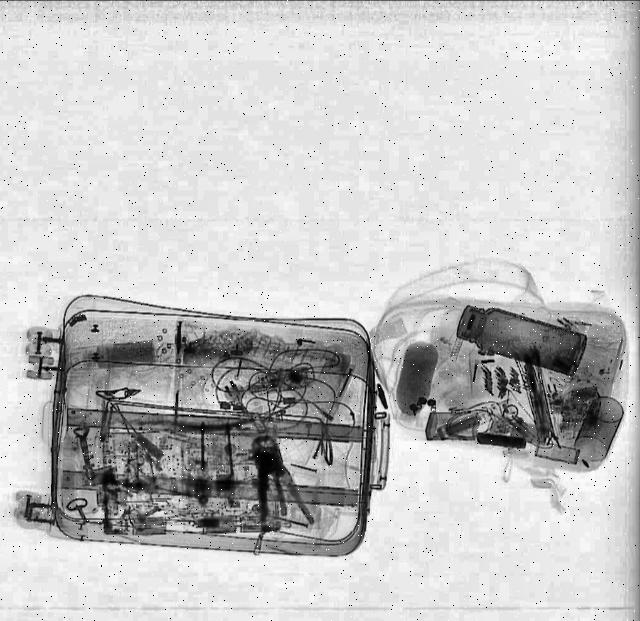Pliers: (237, 432, 317, 536)
